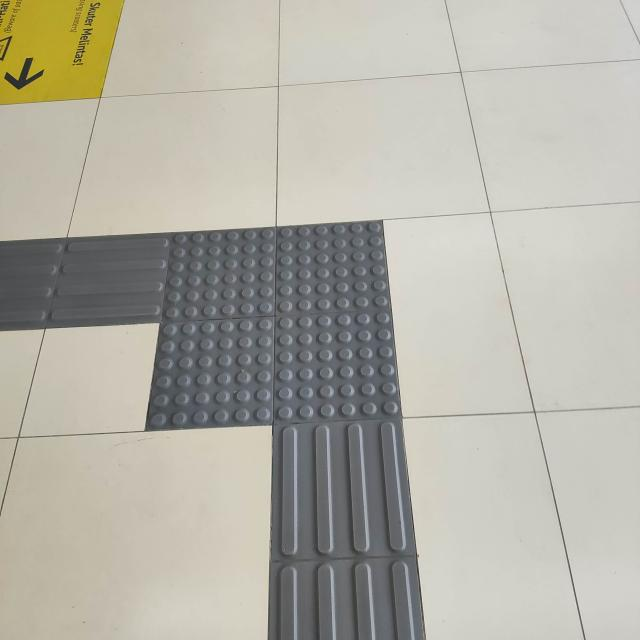kiri: (0, 173, 471, 498)
